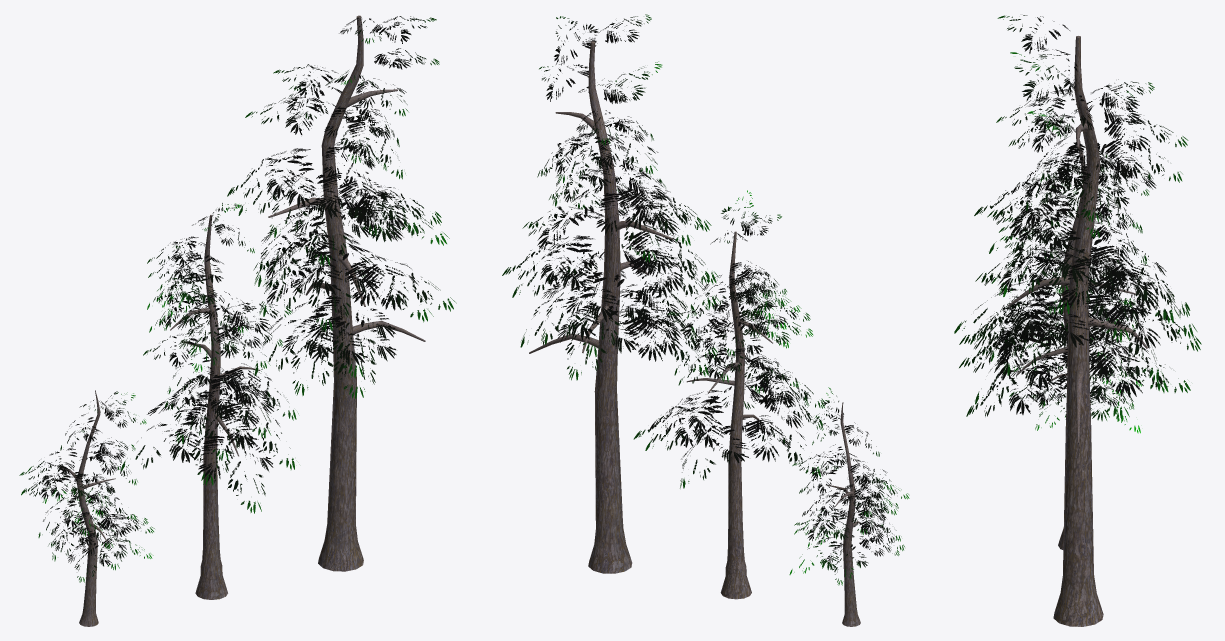
File: trees1.fbx
3 renders of one model, left to right at view 1: azimuth 30°, elevation 25°; view 2: azimuth 150°, elevation 25°; view 3: azimuth 270°, elevation 25°, orthographic. The views are drawn at different scales.
Visible parts, largest first — view 1: leaf_2, leaf_3, tree2, leaf, tree1, tree3; view 2: leaf_2, tree2, leaf_3, leaf, tree1, tree3; view 3: leaf_2, tree2, leaf_3, leaf, tree1.
Part boxes in pixels (bbox=[...]): leaf_2: bbox=[227, 16, 456, 399]; leaf_3: bbox=[120, 203, 298, 513]; tree2: bbox=[268, 15, 425, 571]; leaf: bbox=[19, 391, 154, 582]; tree1: bbox=[170, 215, 260, 599]; tree3: bbox=[61, 390, 115, 626]; leaf_2: bbox=[502, 14, 719, 380]; tree2: bbox=[529, 41, 673, 573]; leaf_3: bbox=[633, 190, 824, 488]; leaf: bbox=[789, 387, 909, 585]; tree1: bbox=[686, 231, 772, 599]; tree3: bbox=[826, 402, 861, 626]; leaf_2: bbox=[954, 15, 1201, 382]; tree2: bbox=[1007, 36, 1147, 626]; leaf_3: bbox=[966, 111, 1190, 419]; leaf: bbox=[1009, 249, 1141, 433]; tree1: bbox=[1016, 140, 1138, 549].
Bounding box in the file's own units: 1020 × 1293 × 516.
